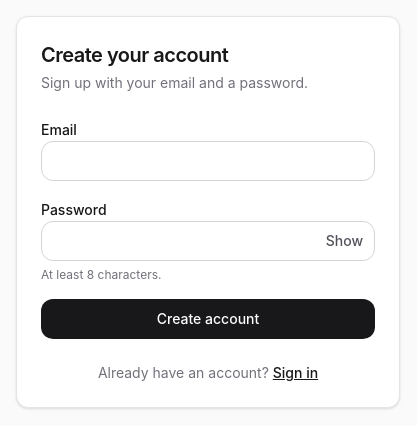
Scenario: SignUpPage › switches to the closed notice when sign-ups closed after the page loaded
In the field labelled "Email": (208, 161) [41,141,375,181], type "ada@example.com"
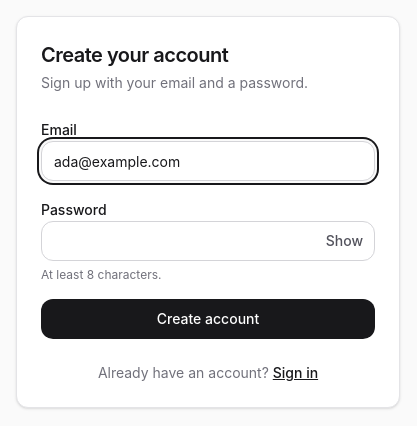
In the password field labelled "Password": (208, 241) [41,221,375,261], type "long-enough-pw"
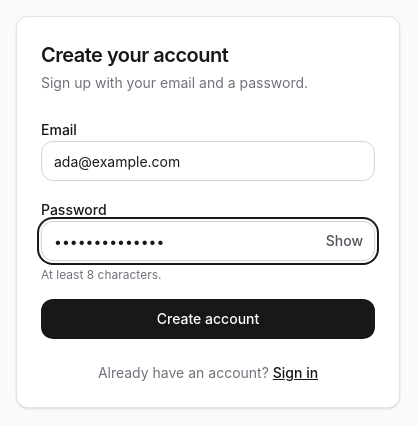
Click the button "Create account": click(208, 319) [41,299,375,339]
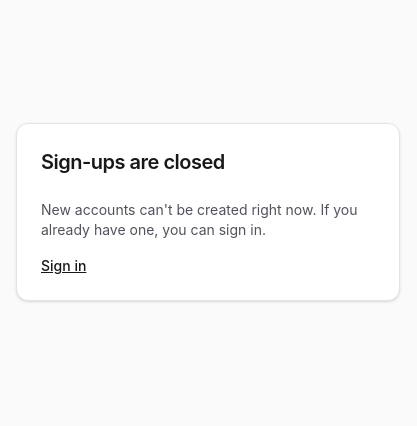
Check: the heading "Sign-ups are closed" is shown, box [41,150,225,174]
